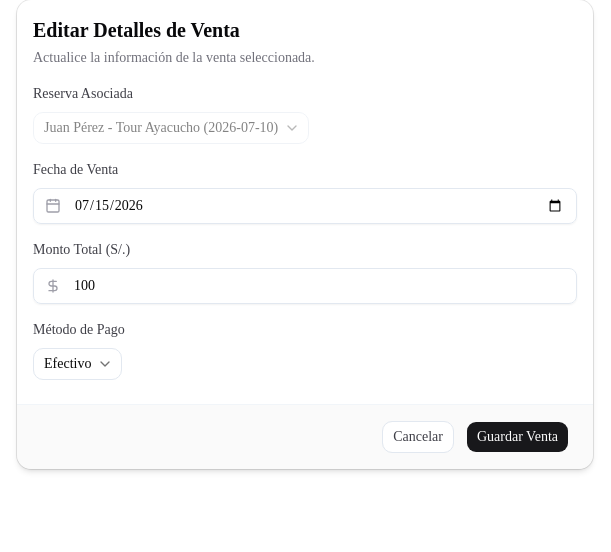
Test case: SaleForm › muestra error genérico si ocurre excepción
Click the button "Guardar Venta": (518, 437) [466,421,569,453]
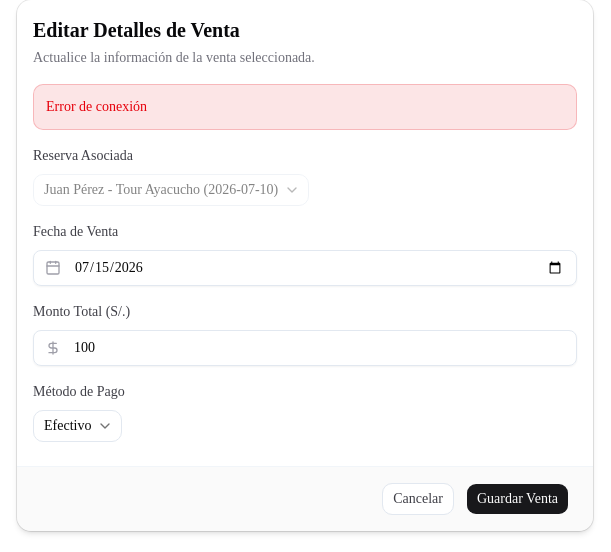
Check: the text "Error de conexión" is shown, box [33,84,577,130]
